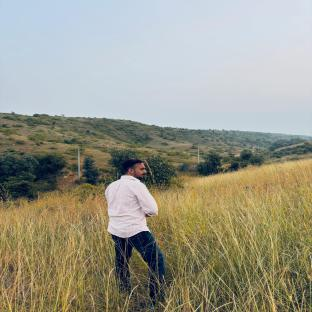Human: (105, 160, 165, 308)
